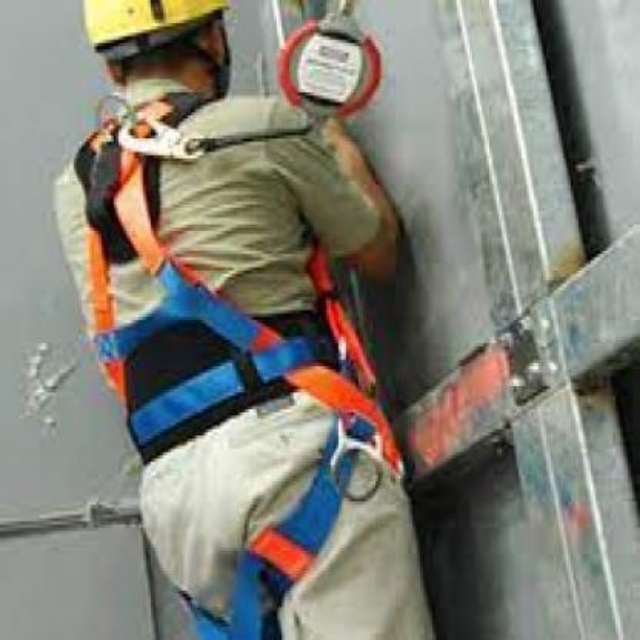Arnes_seguridad: (77, 97, 402, 640)
